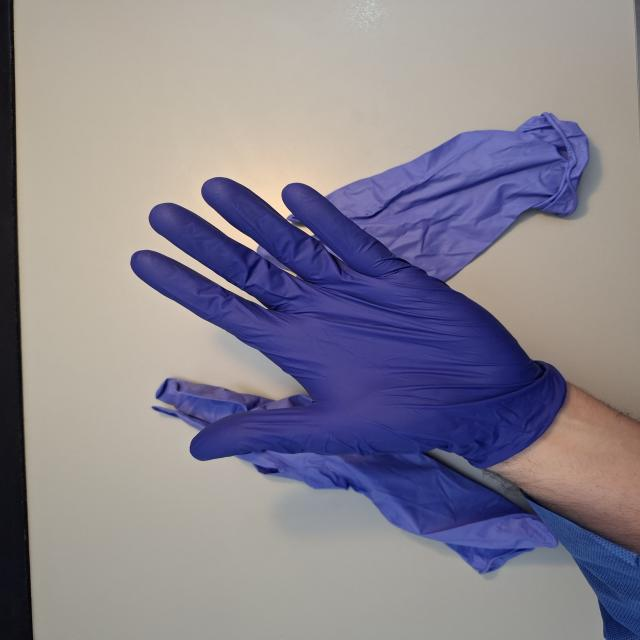glove_on: (125, 174, 557, 465)
